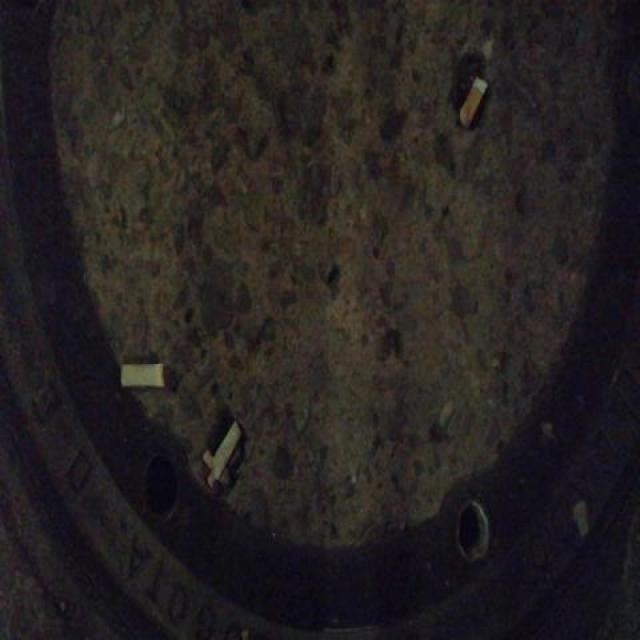non-organic waste: (208, 416, 244, 488), (456, 71, 492, 134), (115, 355, 168, 393)
